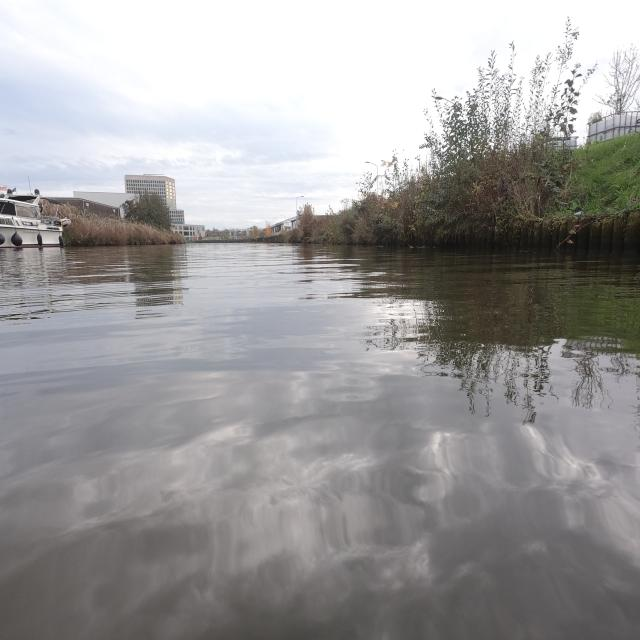boat: (1, 212, 66, 245)
grass: (568, 133, 640, 213)
reed: (325, 19, 594, 244), (61, 205, 185, 246), (606, 179, 607, 180)
sky: (1, 0, 566, 226), (580, 3, 639, 60)
water: (1, 238, 639, 639)
